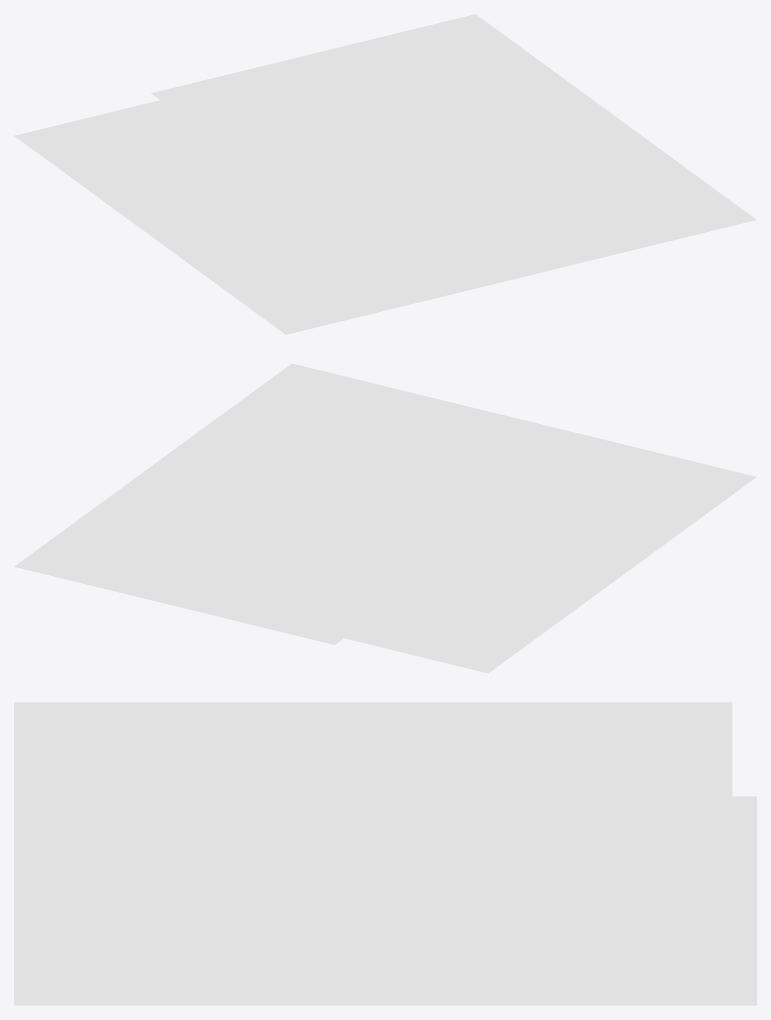
File: m_thomas_ceiling.fbx
3 views of the same model, one above another, from view 1: azimuth 30°, elevation 25°; view 2: azimuth 150°, elevation 25°; view 3: azimuth 270°, elevation 25° (orthographic). The views are drawn at different scales.
Visible parts, largest first — view 1: m_thomas_ceiling; view 2: m_thomas_ceiling; view 3: m_thomas_ceiling.
Part boxes in pixels (x1,y1,x2,y2): m_thomas_ceiling: (14, 14, 756, 334); m_thomas_ceiling: (14, 363, 756, 673); m_thomas_ceiling: (14, 702, 756, 1005).
Bounding box in the file's own units: 290 × 31.32 × 300.
